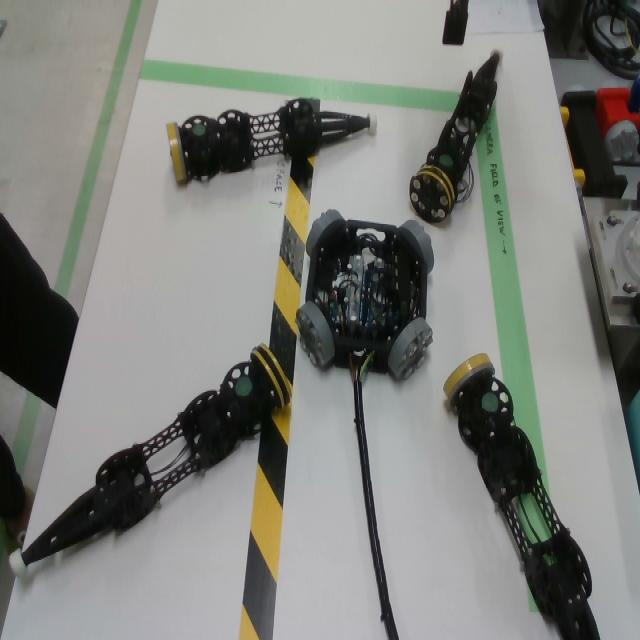body: (306, 219, 428, 376)
body_connector: (388, 317, 434, 383), (295, 301, 335, 368), (399, 220, 435, 275), (306, 209, 345, 257)
leg: (9, 349, 287, 579), (443, 353, 601, 640), (166, 97, 378, 188), (410, 48, 504, 224)
leg_connector: (443, 353, 496, 407), (409, 164, 456, 224), (250, 343, 292, 408), (166, 122, 188, 186)
leg_marker: (234, 375, 253, 397), (481, 391, 498, 413), (439, 153, 453, 167), (192, 125, 206, 136)
